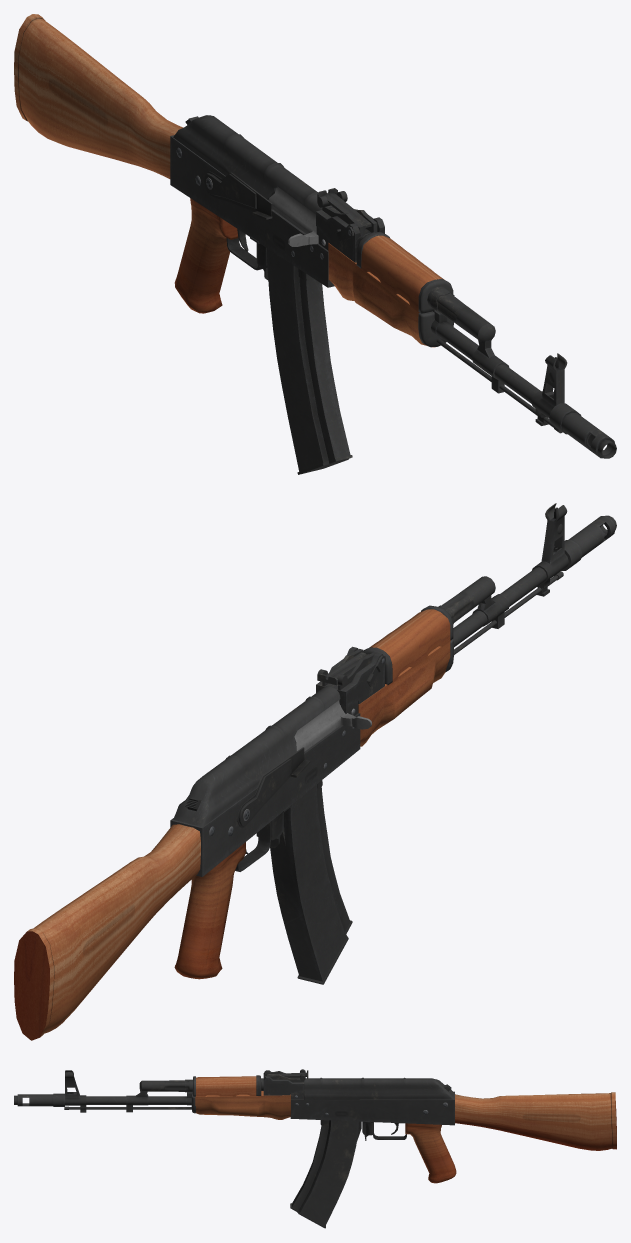
The picture shows the model from 3 angles, top to bottom: view 1: azimuth 30°, elevation 25°; view 2: azimuth 150°, elevation 25°; view 3: azimuth 270°, elevation 25°; orthographic projection. The views are drawn at different scales.
Parts seen in each view (by area): view 1: AK; view 2: AK; view 3: AK.
Boxes of the visible parts, x1,y1,x2,y2 form: AK: (14, 14, 616, 474); AK: (14, 503, 616, 1040); AK: (14, 1069, 616, 1228).
Bounding box in the file's own units: 2231 × 9996 × 35456.
Materials: 1 (1 with a texture image).
